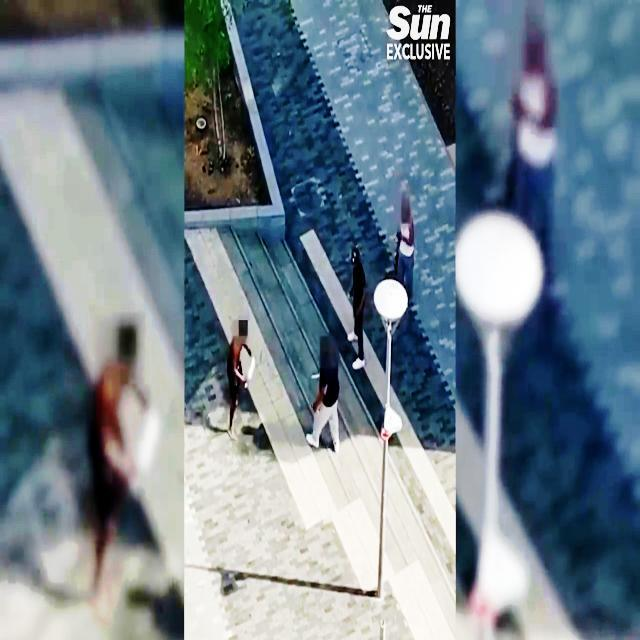Knife: (244, 350, 263, 389)
